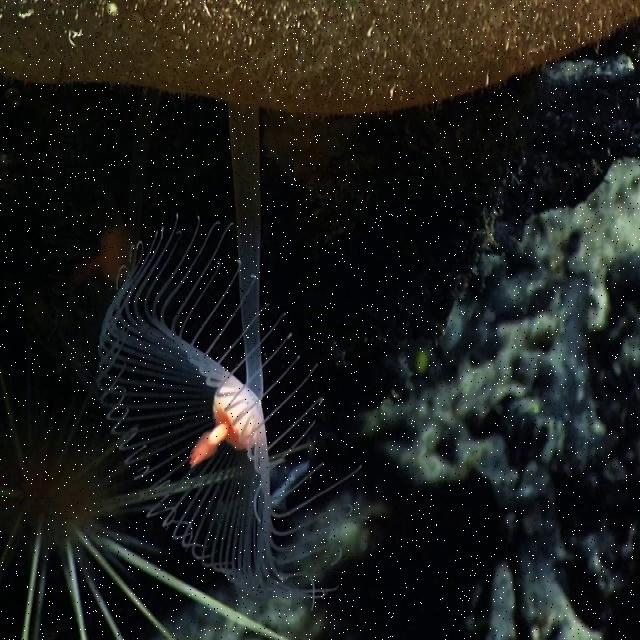reefs: (0, 1, 639, 598)
